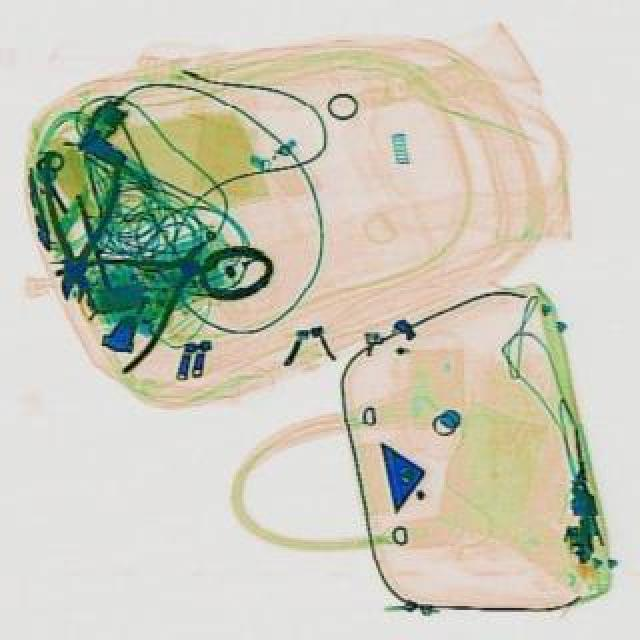wrench: (58, 206, 252, 374), (36, 164, 120, 302)
